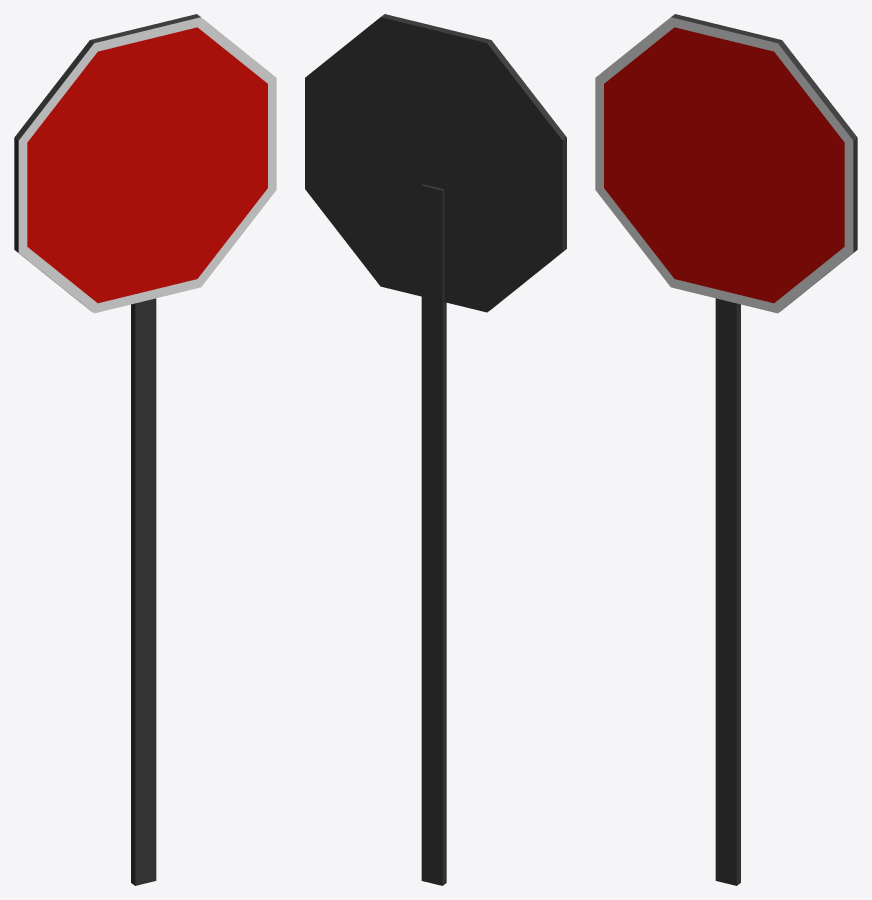
Rendered from stopsign.glb.
3 views of the same model, side by side, from view 1: azimuth 30°, elevation 25°; view 2: azimuth 150°, elevation 25°; view 3: azimuth 330°, elevation 25° (orthographic).
Visible parts, largest first — view 1: Cylinder; view 2: Cylinder; view 3: Cylinder.
Part boxes in pixels (<box>): Cylinder: <box>14,14,276,885</box>; Cylinder: <box>305,14,566,885</box>; Cylinder: <box>595,14,857,885</box>.
Bounding box in the file's own units: 1.18 × 3.74 × 0.0486.
